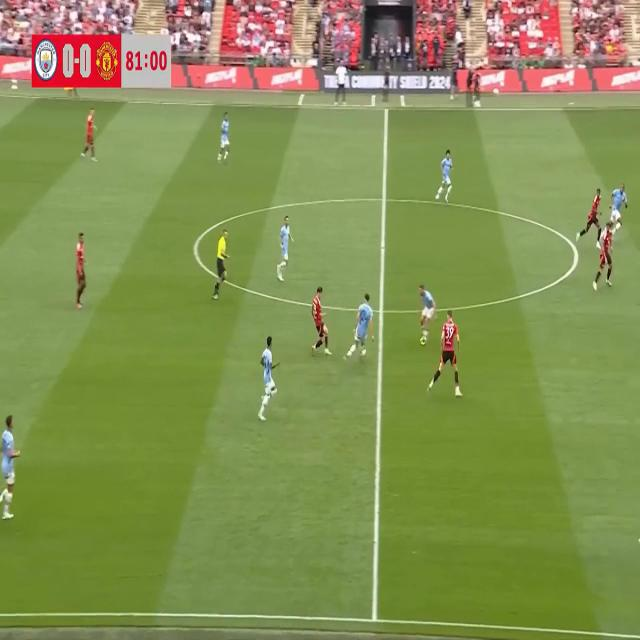ball: (415, 334, 429, 353)
players: (424, 304, 470, 400), (247, 334, 280, 426), (301, 283, 337, 364), (342, 290, 377, 370), (0, 403, 23, 523), (573, 183, 606, 260), (588, 218, 622, 292), (66, 232, 95, 312), (271, 210, 297, 292), (604, 180, 632, 253), (430, 143, 457, 213), (416, 274, 441, 344), (210, 102, 234, 170), (78, 102, 100, 170)
refree: (210, 213, 235, 315)
